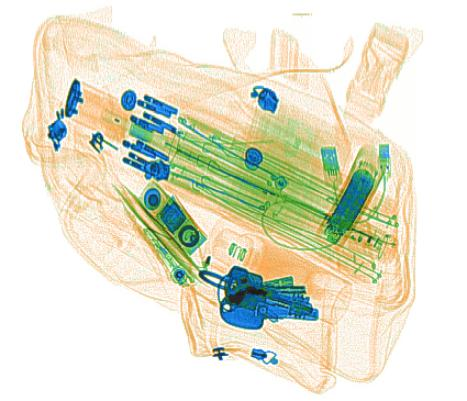battery: (327, 167, 375, 234)
plasticBottleWithaNozzle: (208, 225, 353, 323)
